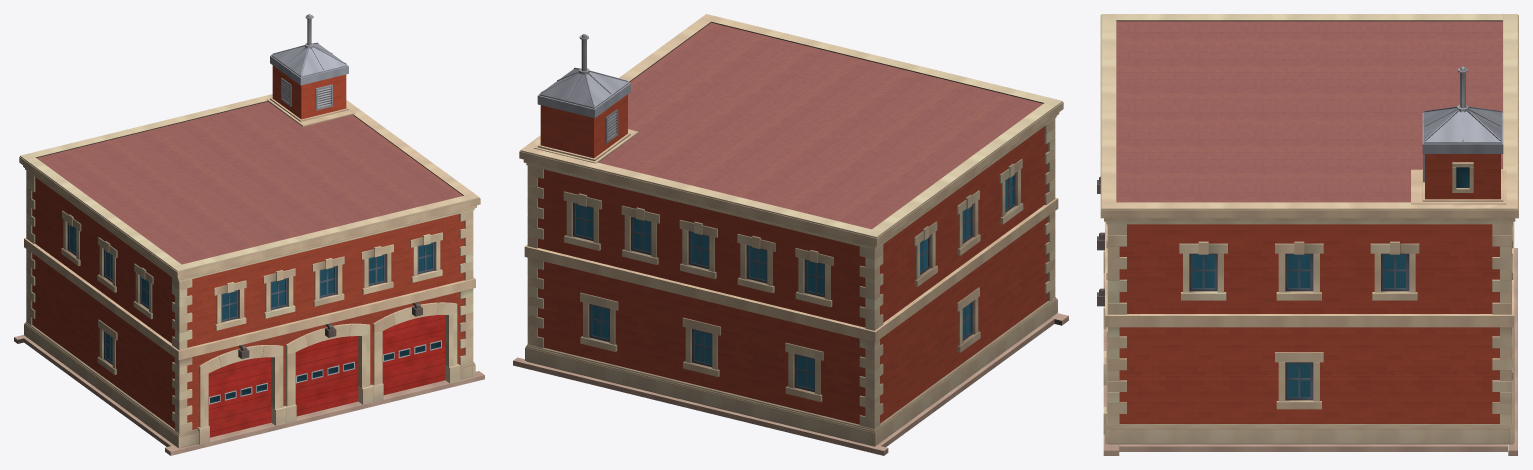
File: houdini_fire_station.glb
3 views of the same model, side by side, from view 1: azimuth 30°, elevation 25°; view 2: azimuth 150°, elevation 25°; view 3: azimuth 270°, elevation 25° (orthographic). The views are drawn at different scales.
Parts seen in each view (by area): view 1: LOD0; view 2: LOD0; view 3: LOD0.
Boxes of the visible parts, x1,y1,x2,y2 form: LOD0: (14, 14, 484, 455); LOD0: (513, 14, 1068, 455); LOD0: (1097, 14, 1518, 455).
Size of what is drawn, in the model's own units: 15.18 by 12.71 by 13.35.
4 materials, 4 textured.
